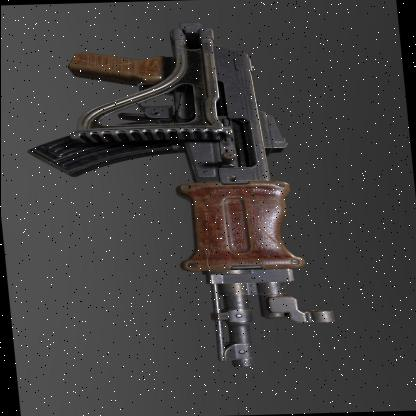rifle: (18, 28, 305, 378)
